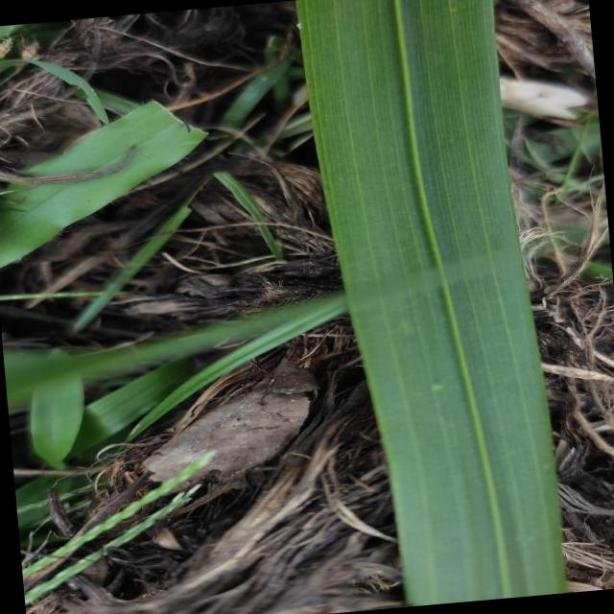Healthy: (294, 0, 574, 608)
